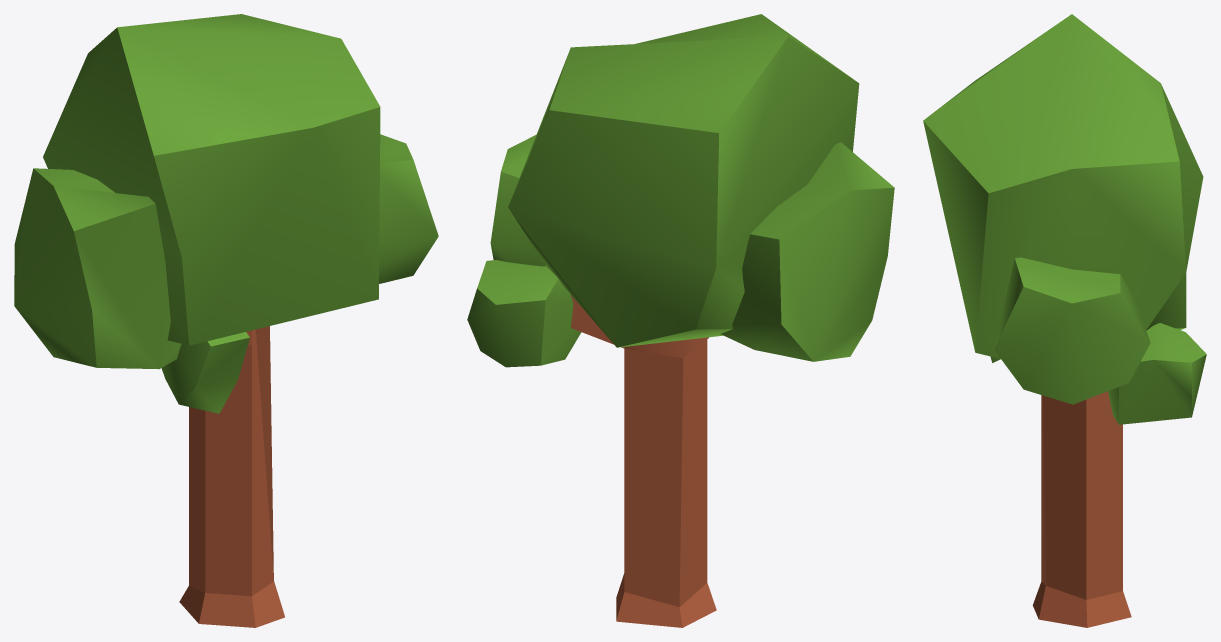
Rendered from 57313bd2-889c-47b1-a6f1-e7a997cdef2c.glb.
The picture shows the model from 3 angles, left to right: view 1: azimuth 30°, elevation 25°; view 2: azimuth 150°, elevation 25°; view 3: azimuth 270°, elevation 25°; orthographic projection. The views are drawn at different scales.
Visible parts, largest first — view 1: Tree_II; view 2: Tree_II; view 3: Tree_II.
Boxes of the visible parts, bbox=[...] form: Tree_II: bbox=[14, 14, 438, 627]; Tree_II: bbox=[467, 14, 894, 627]; Tree_II: bbox=[923, 14, 1206, 627].
Size of the model in its own units: 6.53 by 10.47 by 4.97.
1 material, 1 textured.
